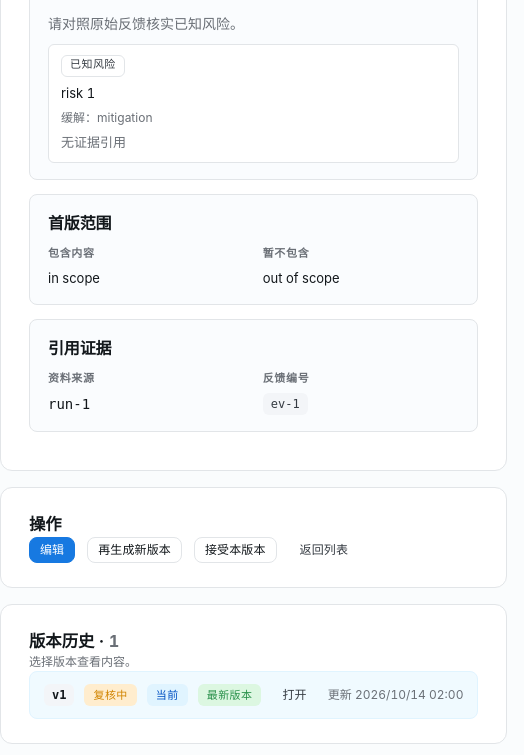
Test: PrdDetailPage — Phase 7 C2 › surfaces a Regenerate error and refuses to navigate on failure
(page scrolled)
Click the button with test id "regenerate-prd": (135, 550) [87,536,182,562]
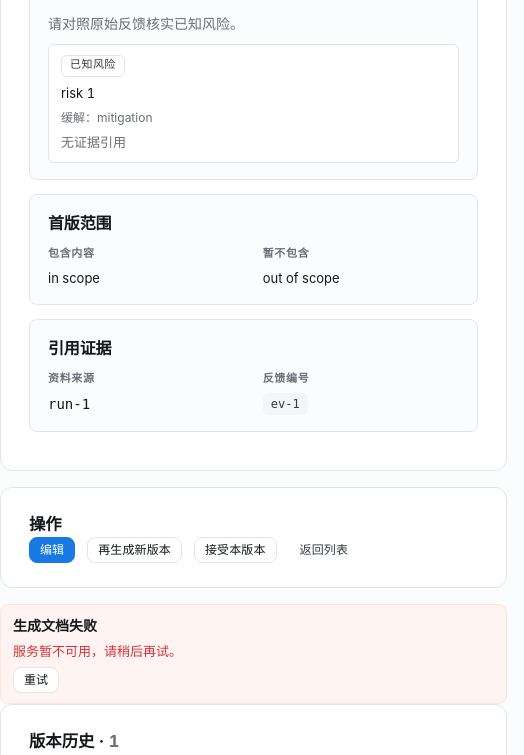
Result: the element with test id "regenerate-error" shows "生成文档失败" at [13,616,97,634]
Result: the element with test id "regenerate-error" shows "服务暂不可用" at [13,642,182,658]
Result: the message "生成文档失败 服务暂不可用，请稍后再试。 重试" is shown at [0,604,507,704]
